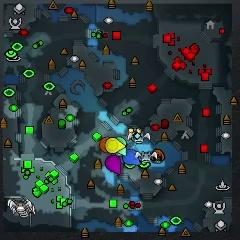p1: (122, 149, 142, 165)
p2: (115, 136, 127, 156)
p3: (106, 154, 121, 175)
p4: (105, 136, 124, 153)
p5: (99, 136, 110, 153)
